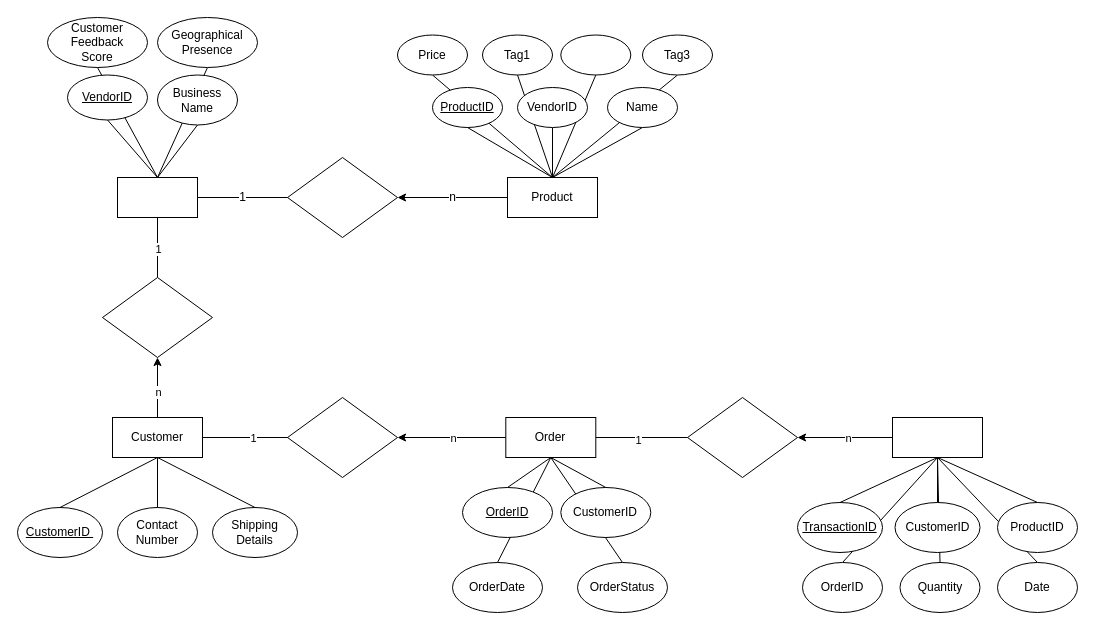
Image size: 1095x630. Some labels were removed from this diagram. Here are the shapes that lost their labels. From the top down, the centre of each, then its label:
point (595, 54): Tag2
point (157, 197): Vendor
point (342, 197): Sells
point (157, 317): Have
point (342, 437): Places
point (742, 437): Contains
point (937, 437): Transaction
